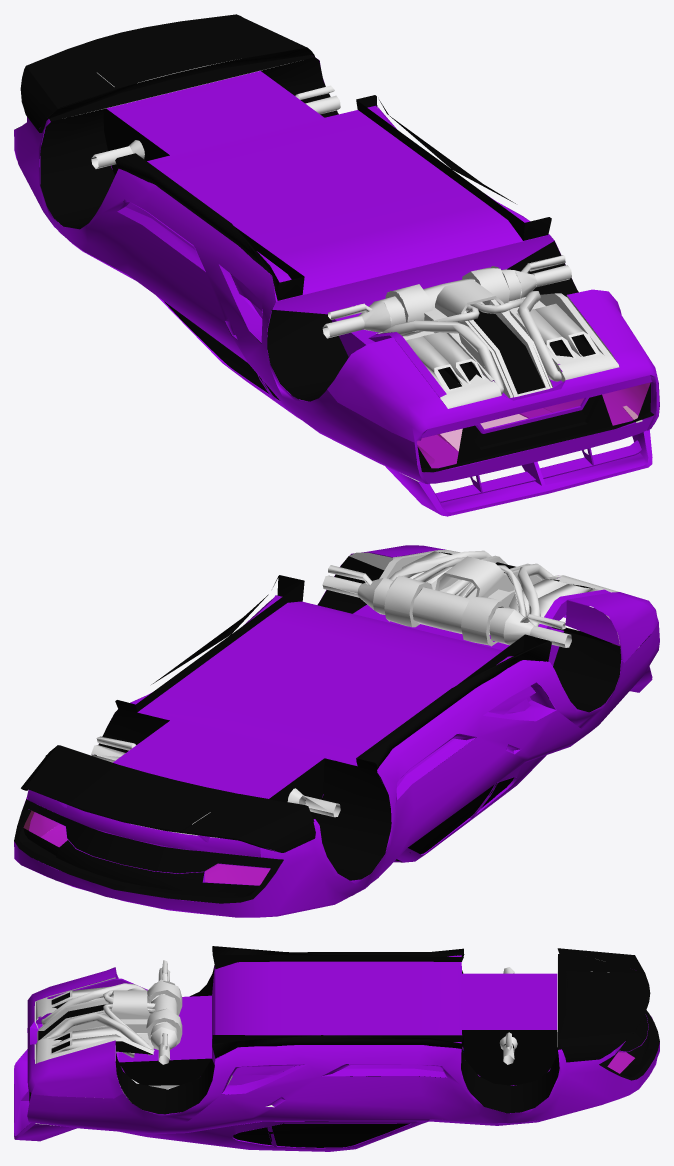
Rendered from car.glb.
The picture shows the model from 3 angles, top to bottom: view 1: azimuth 30°, elevation 25°; view 2: azimuth 150°, elevation 25°; view 3: azimuth 270°, elevation 25°; orthographic projection. The views are drawn at different scales.
Visible parts, largest first — view 1: cb_car_export.024, cb_car_export.096, cb_car_export.001, cb_car_export.112, cb_car_export.147, cb_car_export.034, cb_car_export.100, cb_car_export.070, cb_car_export.158, cb_car_export.386, cb_car_export.198, cb_car_export.075 (+35 smaller); view 2: cb_car_export.024, cb_car_export.096, cb_car_export.043, cb_car_export.112, cb_car_export.147, cb_car_export.100, cb_car_export.228, cb_car_export.046, cb_car_export.001, cb_car_export.386, cb_car_export.041, cb_car_export.153 (+36 smaller); view 3: cb_car_export, cb_car_export.024, cb_car_export.001, cb_car_export.147, cb_car_export.270, cb_car_export.002, cb_car_export.020, cb_car_export.010, cb_car_export.035, cb_car_export.264, cb_car_export.388, cb_car_export.145 (+40 smaller).
Part boxes in pixels (x1=…): cb_car_export.024: x1=106, y1=71, x2=549, y2=301; cb_car_export.096: x1=14, y1=117, x2=447, y2=484; cb_car_export.001: x1=327, y1=289, x2=658, y2=442; cb_car_export.112: x1=40, y1=108, x2=123, y2=229; cb_car_export.147: x1=68, y1=21, x2=237, y2=88; cb_car_export.034: x1=272, y1=235, x2=553, y2=314; cb_car_export.100: x1=267, y1=310, x2=348, y2=401; cb_car_export.070: x1=422, y1=415, x2=654, y2=483; cb_car_export.158: x1=433, y1=407, x2=647, y2=512; cb_car_export.386: x1=115, y1=153, x2=279, y2=299; cb_car_export.198: x1=467, y1=310, x2=545, y2=394; cb_car_export.075: x1=456, y1=395, x2=612, y2=463; cb_car_export.024: x1=113, y1=595, x2=548, y2=798; cb_car_export.096: x1=253, y1=622, x2=659, y2=917; cb_car_export.043: x1=14, y1=799, x2=283, y2=903; cb_car_export.112: x1=281, y1=758, x2=391, y2=880; cb_car_export.147: x1=68, y1=764, x2=237, y2=831; cb_car_export.100: x1=533, y1=631, x2=621, y2=712; cb_car_export.228: x1=23, y1=828, x2=258, y2=892; cb_car_export.046: x1=28, y1=790, x2=260, y2=856; cb_car_export.001: x1=334, y1=545, x2=658, y2=662; cb_car_export.386: x1=356, y1=641, x2=551, y2=769; cb_car_export.041: x1=14, y1=841, x2=255, y2=917; cb_car_export.153: x1=237, y1=806, x2=315, y2=852; cb_car_export: x1=27, y1=1045, x2=631, y2=1134; cb_car_export.024: x1=215, y1=955, x2=557, y2=1058; cb_car_export.001: x1=27, y1=967, x2=123, y2=1098; cb_car_export.147: x1=566, y1=971, x2=650, y2=1015; cb_car_export.270: x1=233, y1=1121, x2=409, y2=1147; cb_car_export.002: x1=116, y1=1052, x2=421, y2=1151; cb_car_export.020: x1=461, y1=1048, x2=559, y2=1113; cb_car_export.010: x1=115, y1=1053, x2=214, y2=1114; cb_car_export.035: x1=118, y1=995, x2=211, y2=1062; cb_car_export.264: x1=212, y1=1035, x2=463, y2=1058; cb_car_export.388: x1=212, y1=955, x2=463, y2=968; cb_car_export.145: x1=558, y1=1031, x2=634, y2=1062.
Size of the model in its own units: 223 by 121 by 541.
